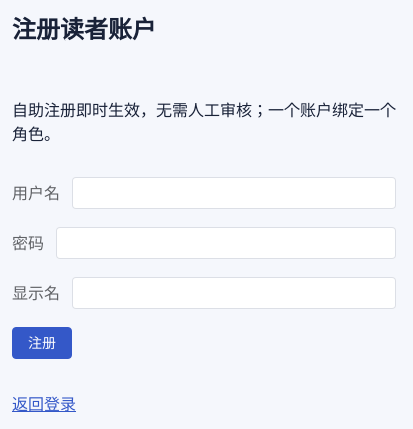
Test: RegisterView › replays the approved registration scenario and shows the created account
In the field with test id "register-username": (234, 193) [83, 178, 385, 208], type "reader01"
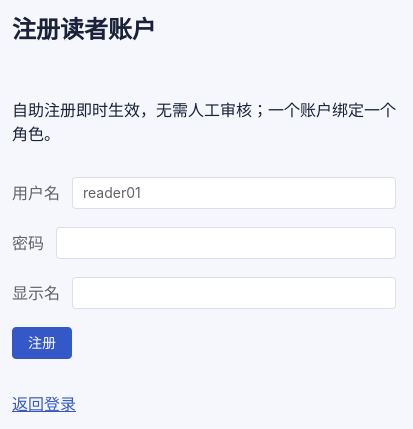
In the password field with test id "register-password": (226, 243) [67, 228, 385, 258], type "example-only"
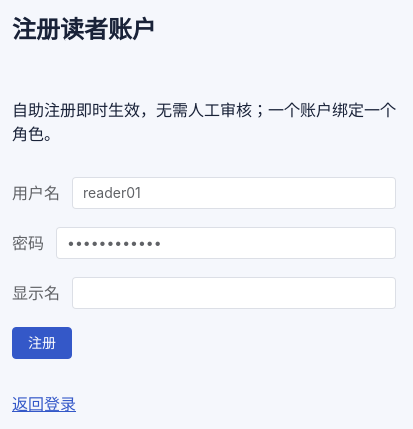
In the field with test id "register-display-name": (234, 293) [83, 278, 385, 308], type "Reader 01"
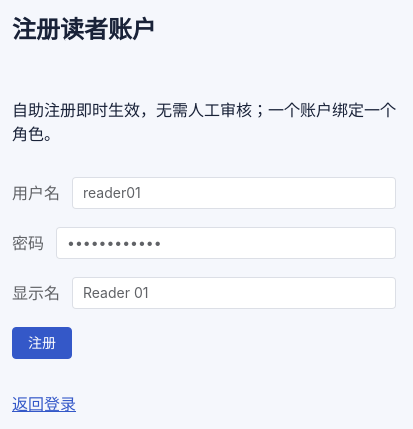
Submit the form with test id "register-form", box [12, 177, 396, 359]
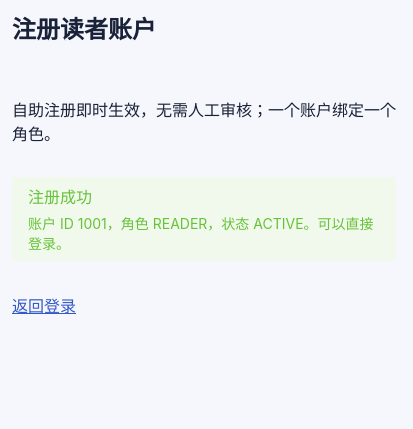
Expected: the element with test id "register-success" is shown, [12, 177, 396, 261]
Expected: the element with test id "register-success" shows "1001", [28, 215, 374, 252]
Expected: the element with test id "register-success" shows "READER", [28, 215, 374, 252]
